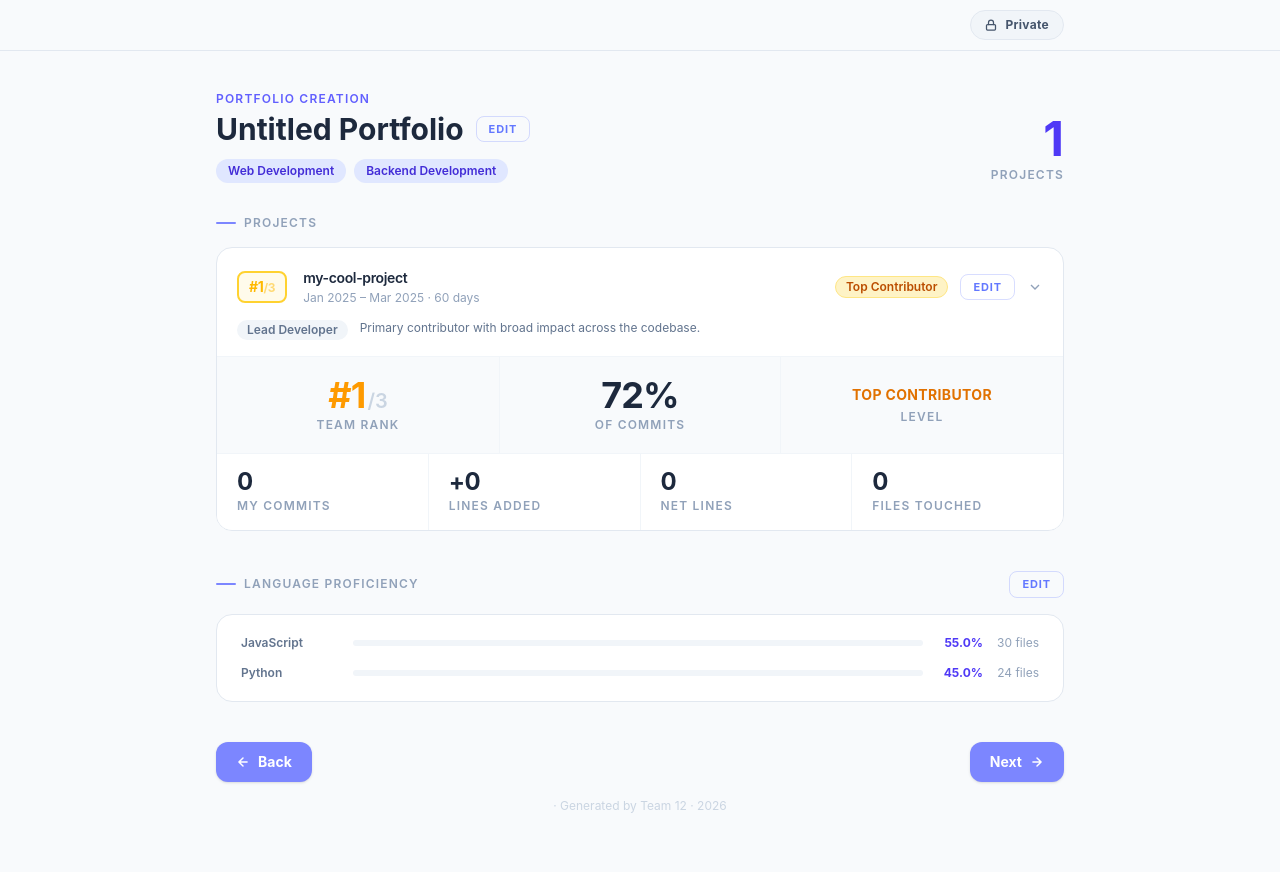
Test: Portfolio: edit header › enters edit mode and saves new title
Expected: the heading "Untitled Portfolio" is shown, [216, 111, 464, 147]
Click the button with aria-label "Edit header" at coordinates (503, 129), box [476, 116, 530, 142]
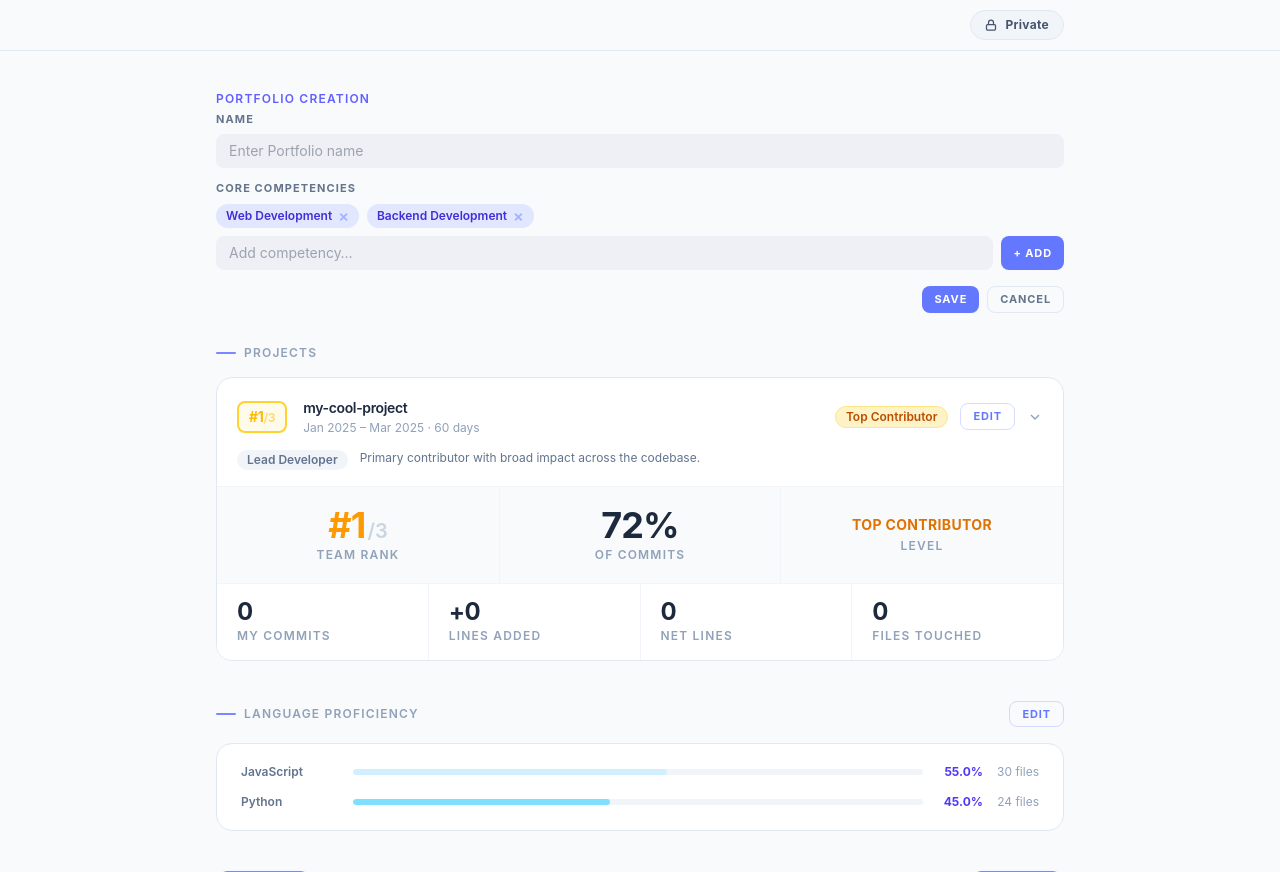
Type "My Portfolio" into the field with placeholder "Enter Portfolio name" at coordinates (640, 150), box [216, 134, 1064, 168]
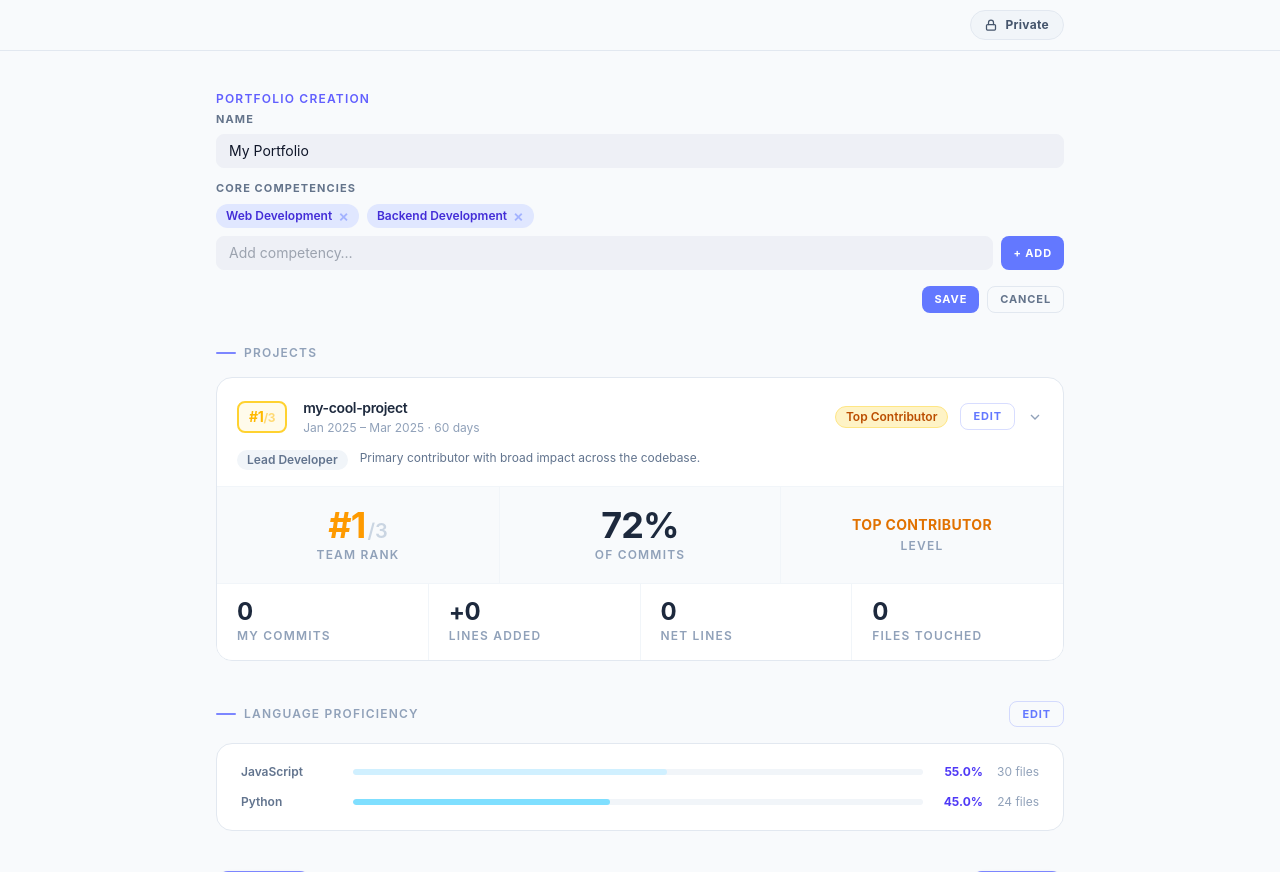
Click the button with aria-label "Save header" at coordinates (951, 299), box [922, 286, 979, 312]
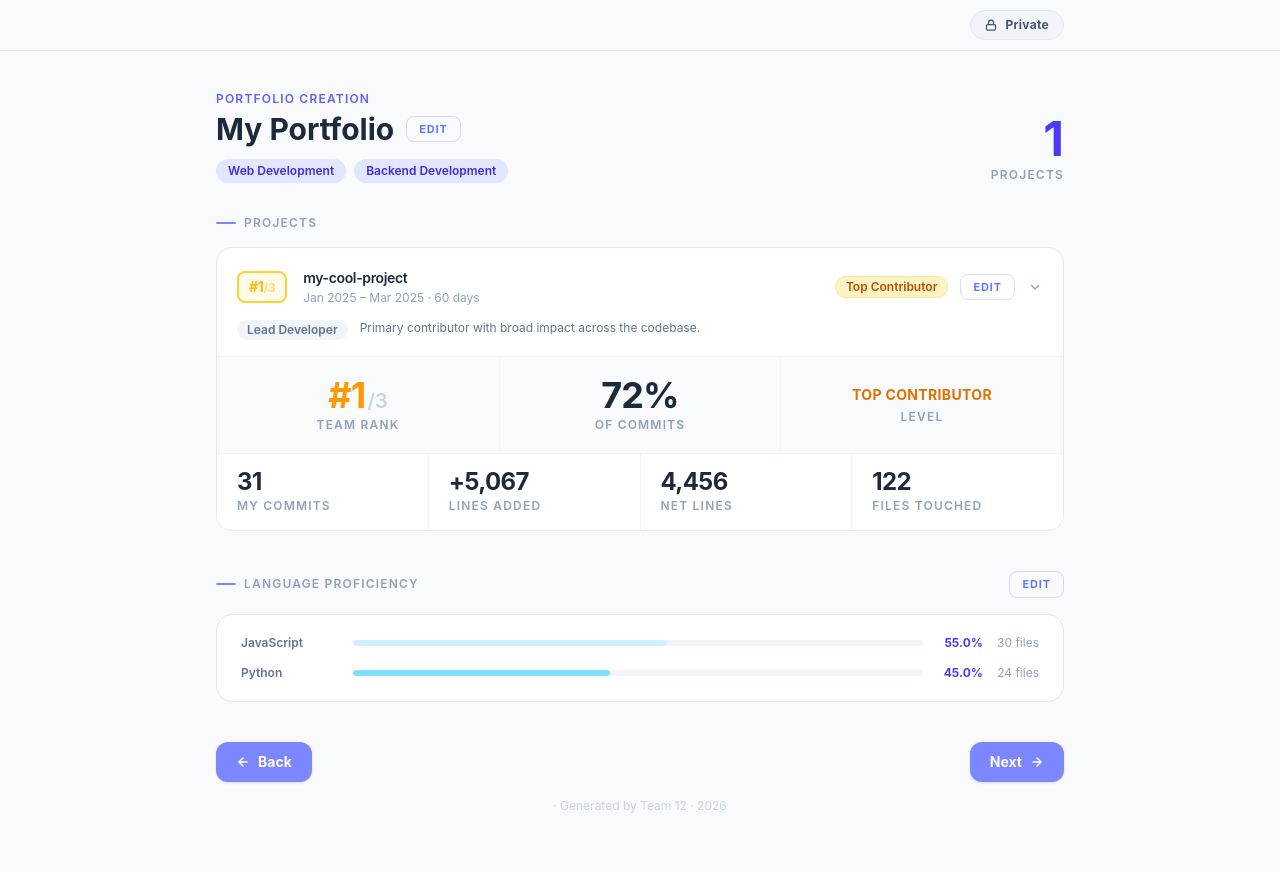
Expected: the heading "My Portfolio" is shown, [216, 111, 394, 147]
